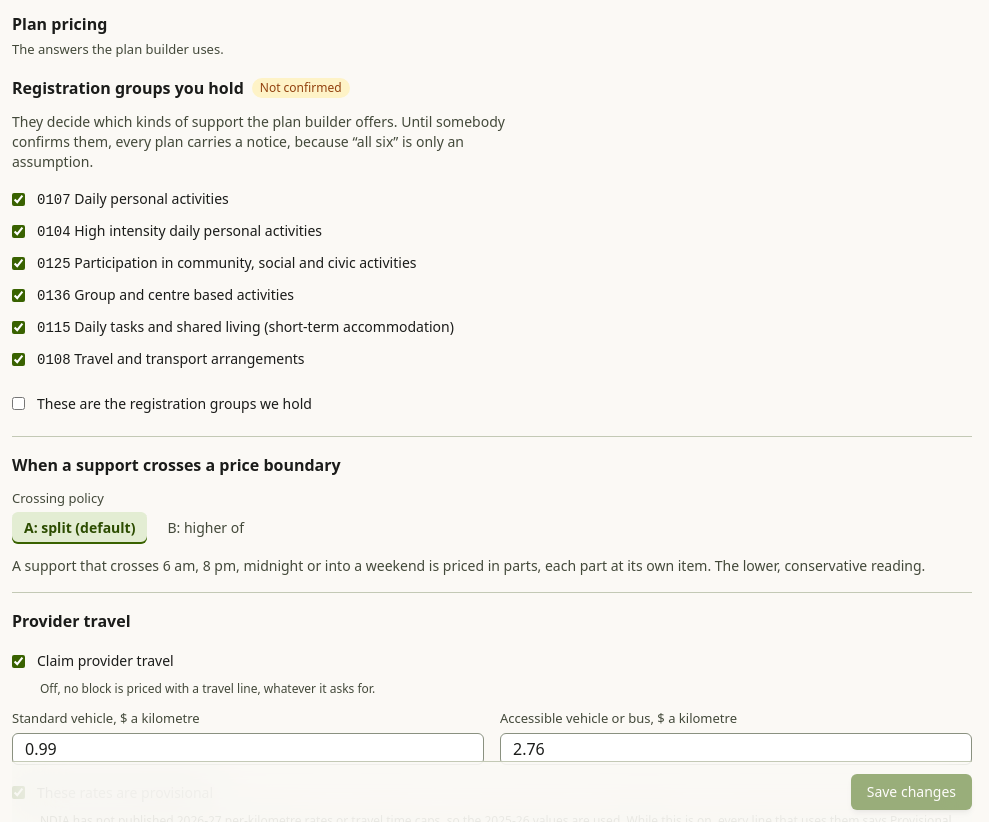
Test case: Plan pricing settings › confirms the groups with exactly the groups ticked, from the one Save
The image size is (989, 822).
Click the checkbox labelled "0108 Travel and transport arrangements": (18, 360) [12, 353, 25, 366]
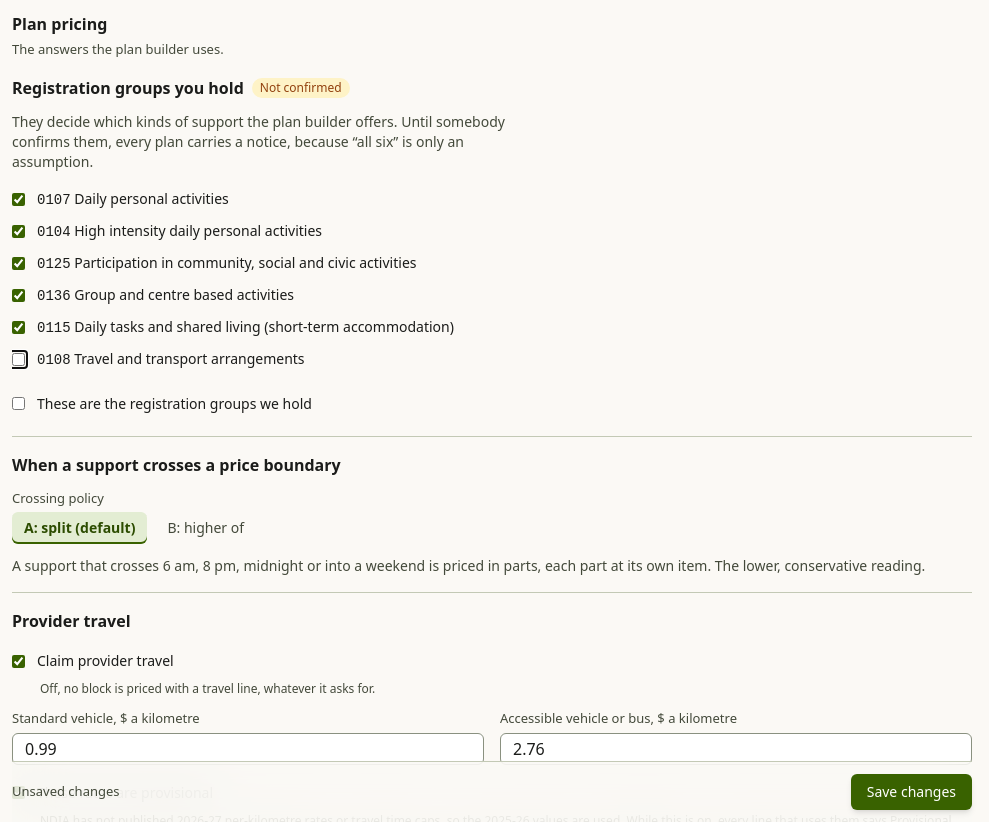
Click the checkbox labelled "0136 Group and centre based activities": (18, 296) [12, 289, 25, 302]
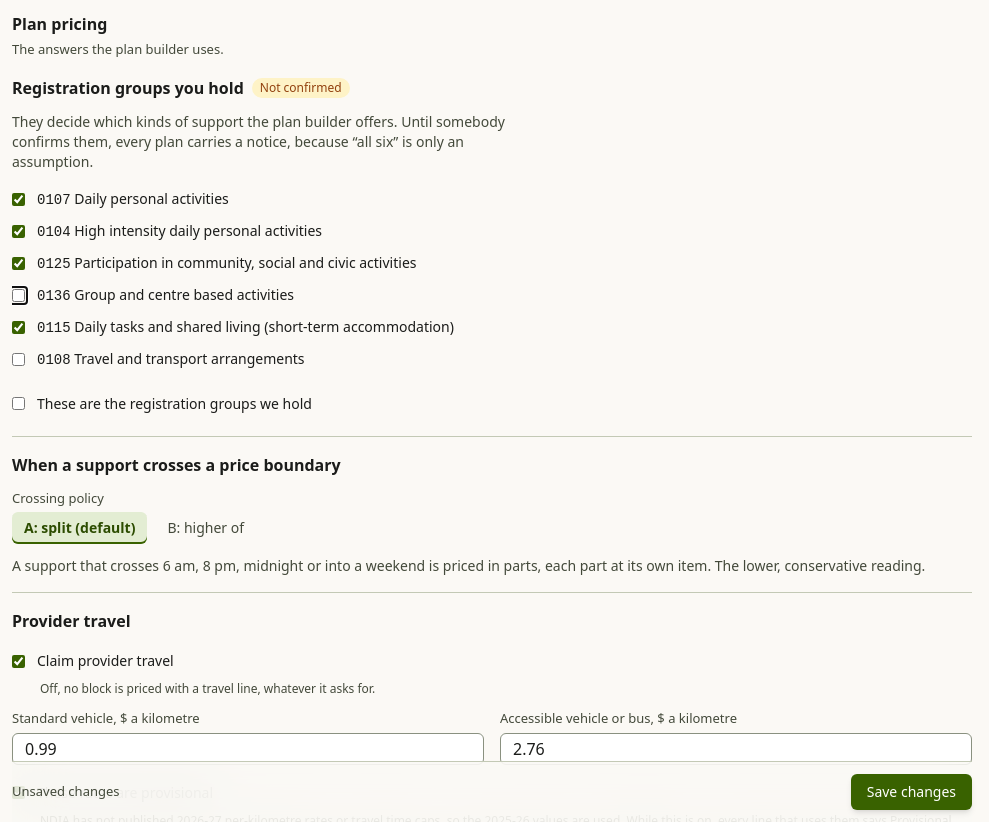
Click the checkbox labelled "These are the registration groups we hold": (18, 404) [12, 397, 25, 410]
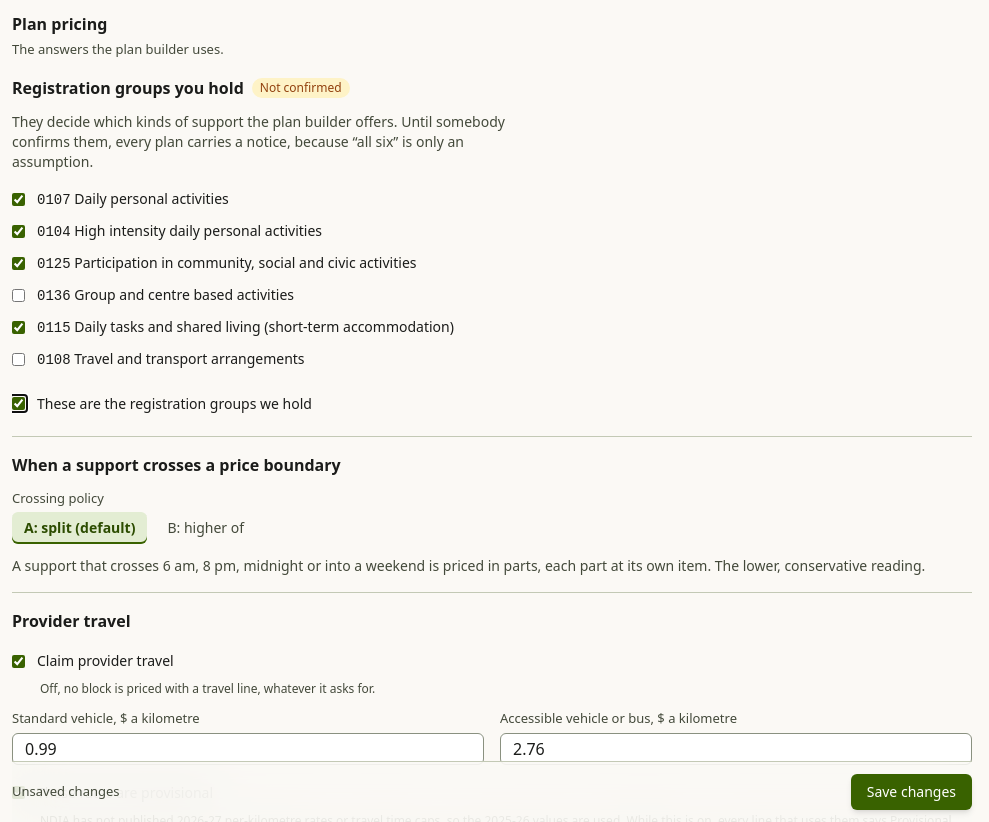
Click the button "Save changes": (911, 792) [851, 774, 972, 810]
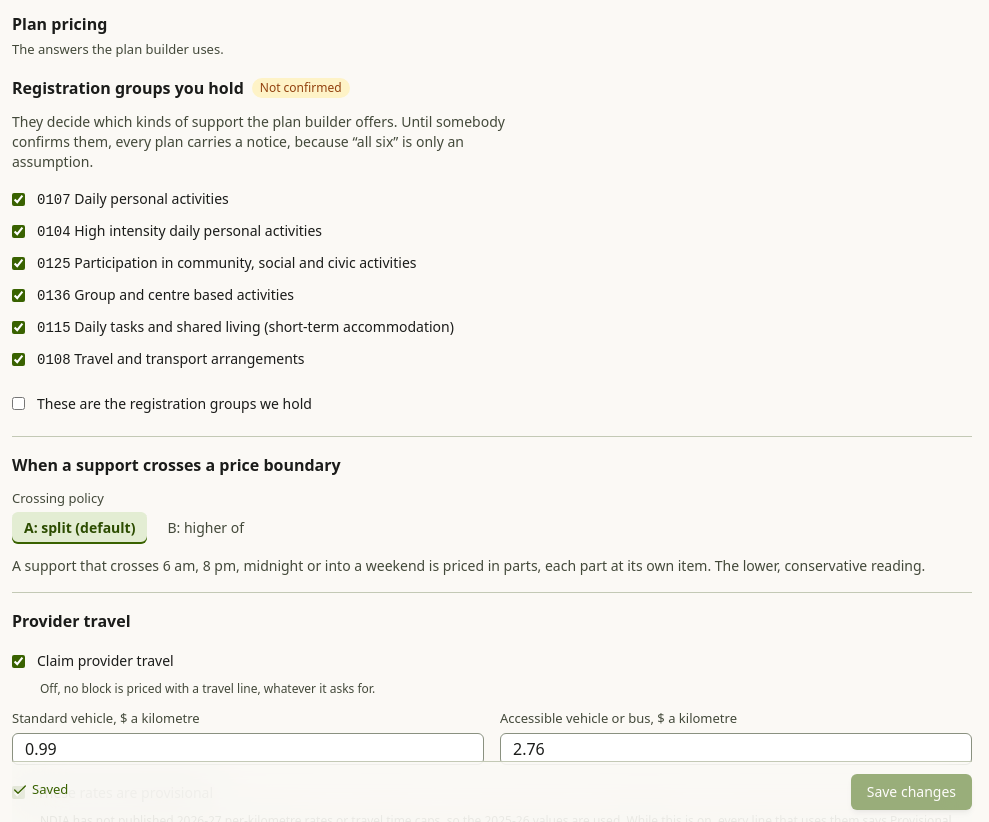
expect the message reads "Saved": met, box [32, 780, 68, 798]
